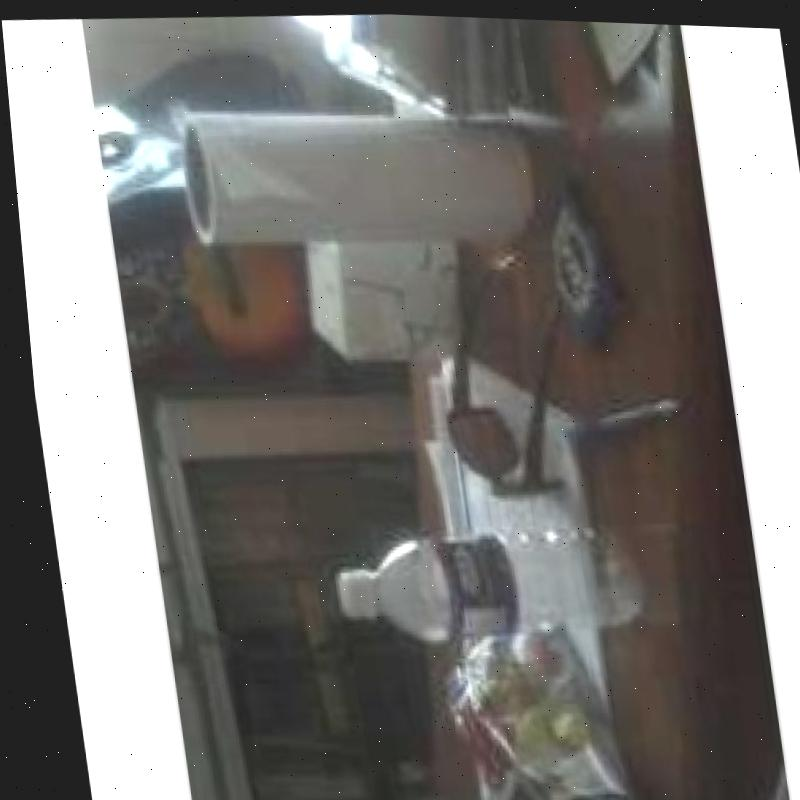botella: (319, 509, 640, 650)
